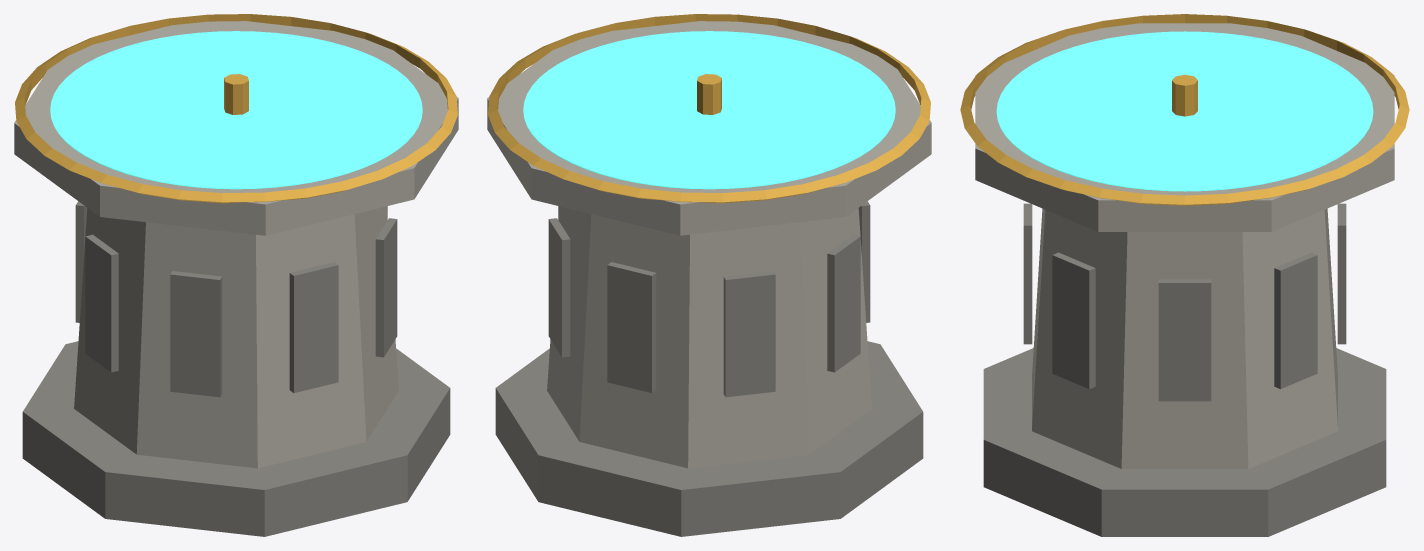
File: prop_compass_pedestal_v01.glb
3 views of the same model, side by side, from view 1: azimuth 30°, elevation 25°; view 2: azimuth 150°, elevation 25°; view 3: azimuth 270°, elevation 25° (orthographic).
Visible parts, largest first — view 1: pedestal, slot_07, slot_05, slot_10, slot_09, slot_03, slot_06, slot_04, slot_08, slot_01, slot_02; view 2: pedestal, slot_03, slot_05, slot_07, slot_10, slot_04, slot_06, slot_01, slot_02, slot_08, slot_09; view 3: pedestal, slot_03, slot_10, slot_07, slot_09, slot_01, slot_04, slot_02, slot_05, slot_08, slot_06.
Part boxes in pixels (box(x1,y1,x2,y2)): pedestal: box(14, 14, 458, 536); slot_07: box(160, 114, 275, 189); slot_05: box(50, 101, 224, 149); slot_10: box(249, 70, 422, 117); slot_09: box(247, 110, 421, 162); slot_03: box(98, 33, 223, 106); slot_06: box(75, 112, 228, 182); slot_04: box(51, 57, 223, 109); slot_08: box(238, 112, 374, 187); slot_01: box(249, 38, 397, 106); slot_02: box(198, 31, 311, 96); pedestal: box(487, 14, 931, 536); slot_03: box(571, 112, 709, 187); slot_05: box(715, 113, 870, 182); slot_07: box(721, 57, 894, 110); slot_10: box(548, 38, 696, 106); slot_04: box(670, 114, 785, 189); slot_06: box(720, 101, 895, 149); slot_01: box(523, 70, 696, 119); slot_02: box(524, 110, 698, 162); slot_08: box(722, 33, 847, 105); slot_09: box(634, 31, 747, 94); pedestal: box(960, 14, 1409, 536); slot_03: box(1196, 86, 1373, 135); slot_10: box(1074, 115, 1191, 191); slot_07: box(1006, 47, 1171, 108); slot_09: box(1005, 113, 1175, 175); slot_01: box(1182, 115, 1295, 191); slot_04: box(1198, 46, 1363, 107); slot_02: box(1193, 113, 1364, 175); slot_05: box(1178, 31, 1294, 102); slot_08: box(996, 86, 1173, 135); slot_06: box(1074, 31, 1184, 98).
Size of the model in its own units: 1.03 by 0.94 by 1.03.
